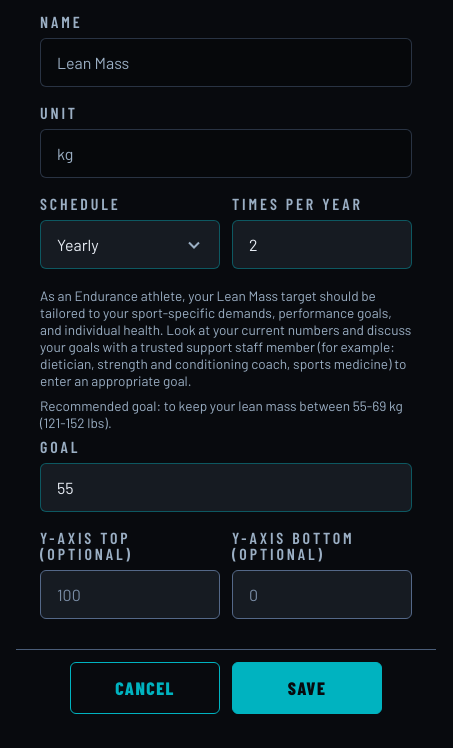
MetricOverrideForm › rejects y-axis top <= bottom for an ascending metric
This screenshot has width=453, height=748.
Replace the text in the number field labelled "Goal" with "70" at point(226, 488), box x1=40 y1=463 x2=412 y2=512
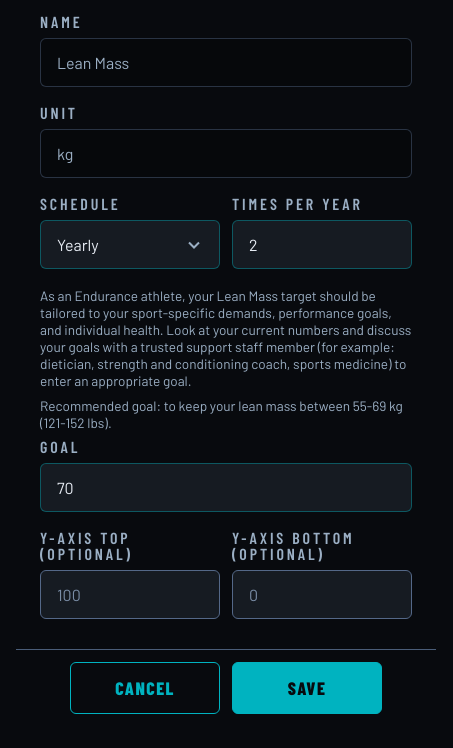
Type "50" into the number field labelled "Y-axis top (optional)" at point(130, 594), box x1=40 y1=570 x2=220 y2=619
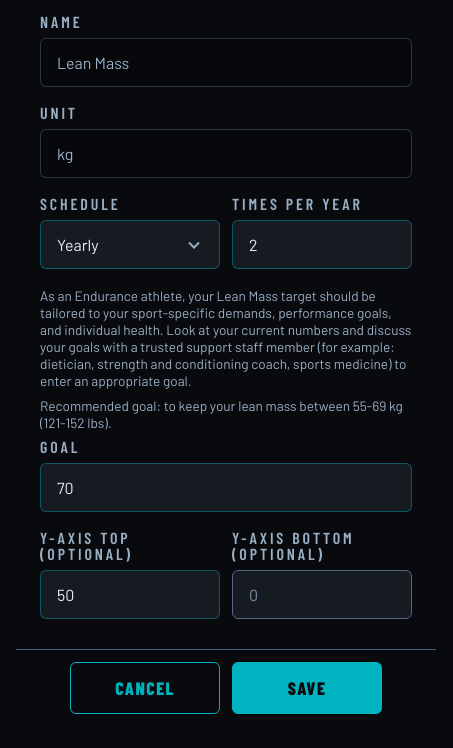
Type "50" into the number field labelled "Y-axis bottom (optional)" at point(322, 594), box x1=232 y1=570 x2=412 y2=619
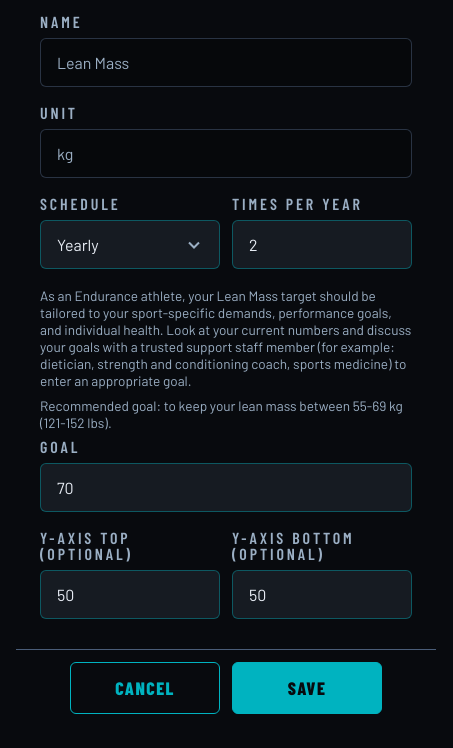
Click the button "Save" at point(307, 688), box x1=232 y1=662 x2=382 y2=714
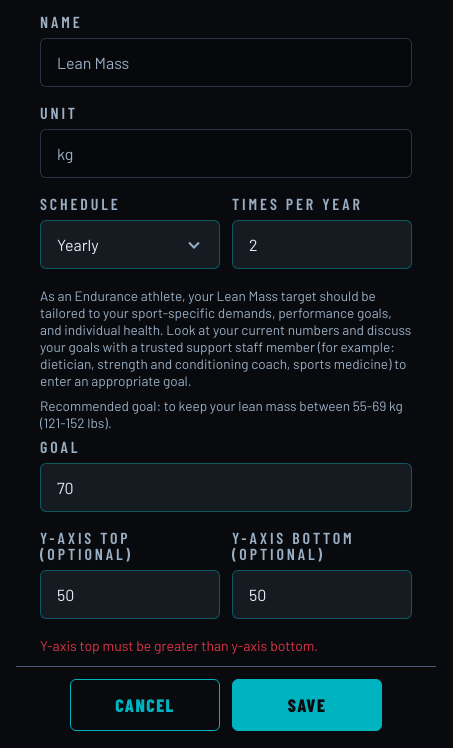
Result: the text "Y-axis top must be greater than y-axis bottom." is shown at x1=40 y1=637 x2=318 y2=654
